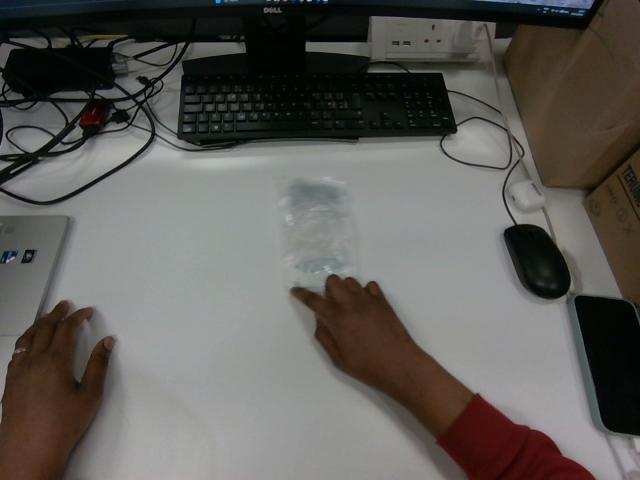gallipot: (280, 178, 356, 290)
